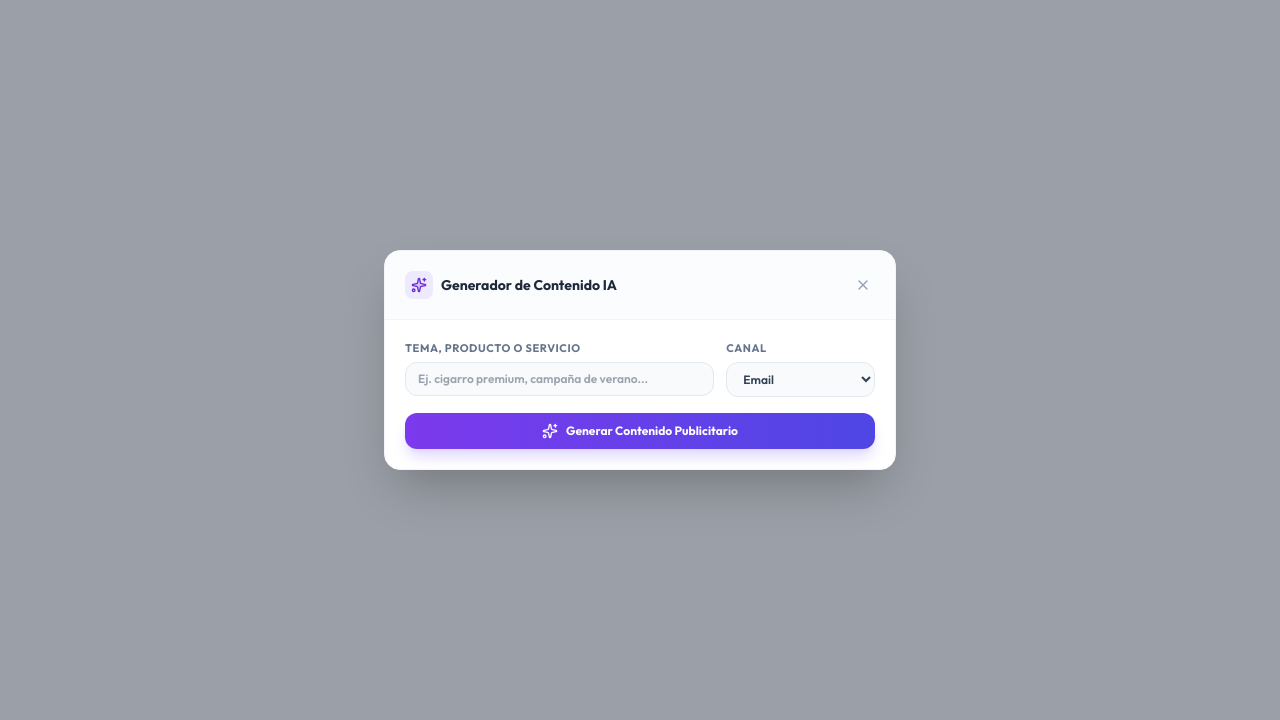
Scenario: QA - Componente AIModal (Generación de Contenido) › Debe mostrar error si se intenta generar sin ingresar tema
Click the button "Generar Contenido Publicitario" at (640, 431), box [405, 413, 875, 449]
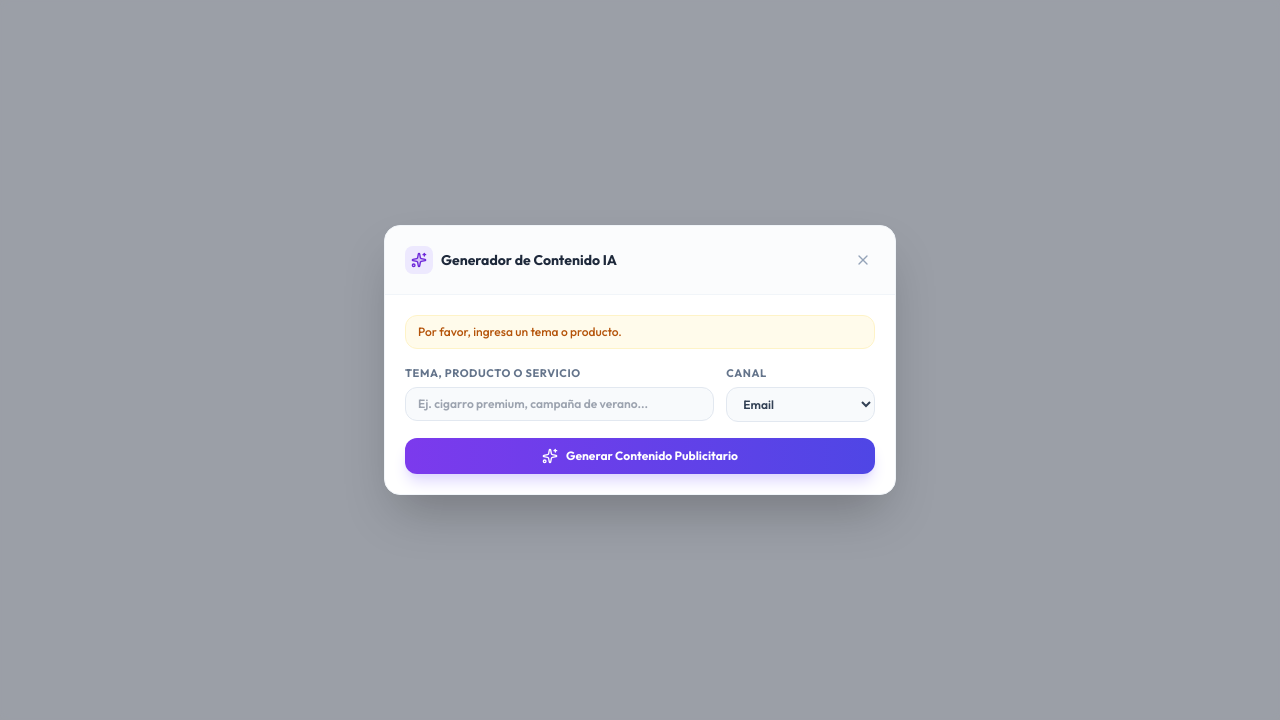
Now the text "Por favor, ingresa un tema o producto." is shown, box [405, 315, 875, 349]
